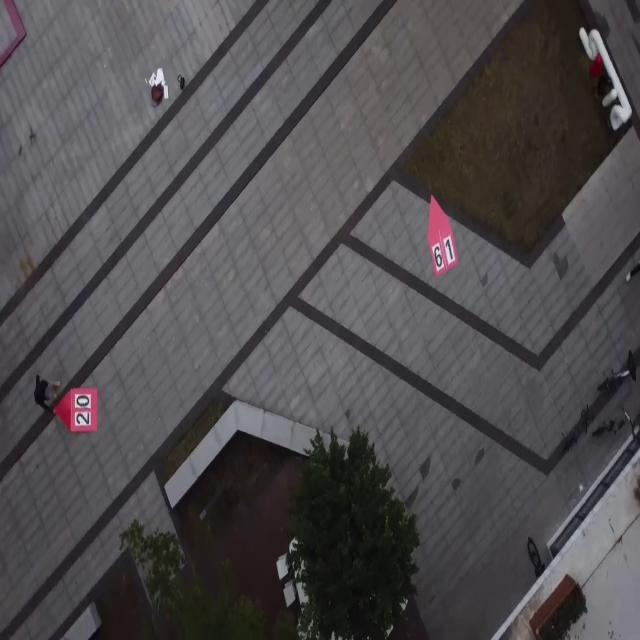-sign-: (427, 193, 459, 277), (54, 388, 98, 433)
